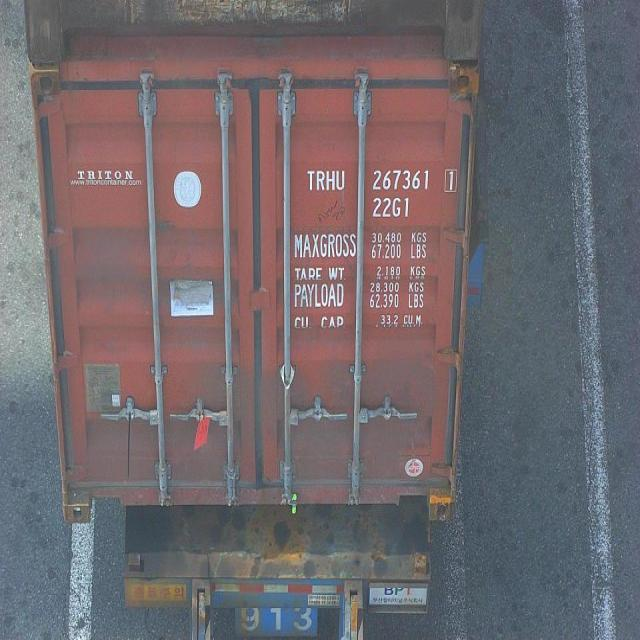ISO: (372, 196, 410, 218)
container_number: (305, 166, 454, 194)
